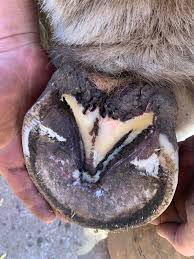horsesole: (20, 88, 179, 232)
